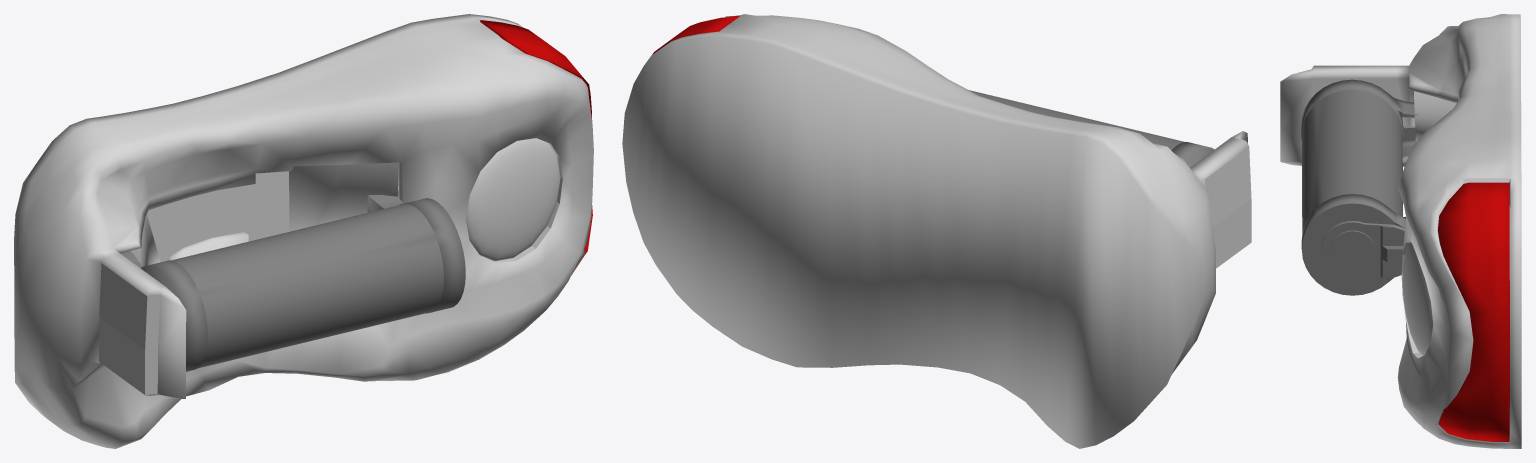
Rendered from LAnkleRoll.dae.
The picture shows the model from 3 angles, left to right: view 1: azimuth 30°, elevation 25°; view 2: azimuth 150°, elevation 25°; view 3: azimuth 270°, elevation 25°; orthographic projection. The views are drawn at different scales.
Visible parts, largest first — view 1: root_018; view 2: root_018; view 3: root_018.
Boxes of the visible parts, x1=… form: root_018: x1=14, y1=14, x2=593, y2=448; root_018: x1=622, y1=14, x2=1251, y2=448; root_018: x1=1280, y1=14, x2=1521, y2=448.
Size of the model in its own units: 160 by 64.67 by 90.49.
